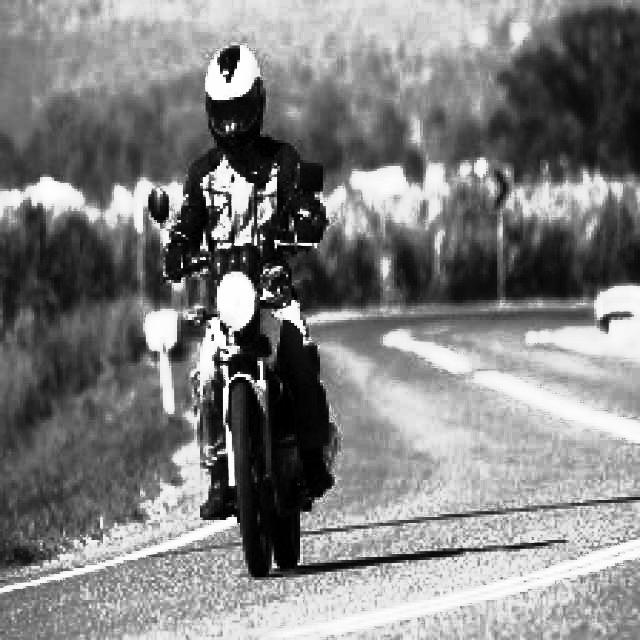Bike: (190, 240, 311, 570)
